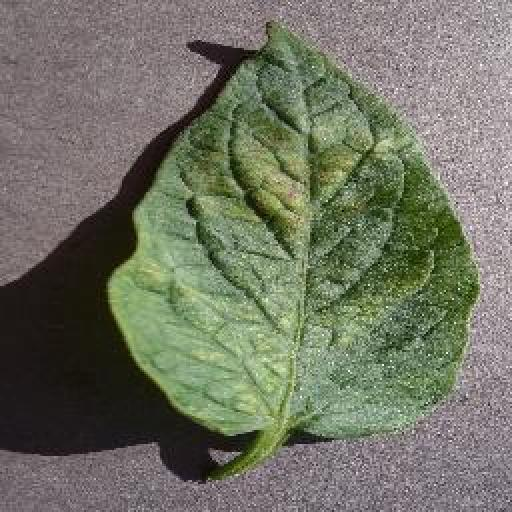disease_tomato: (104, 20, 477, 440)
